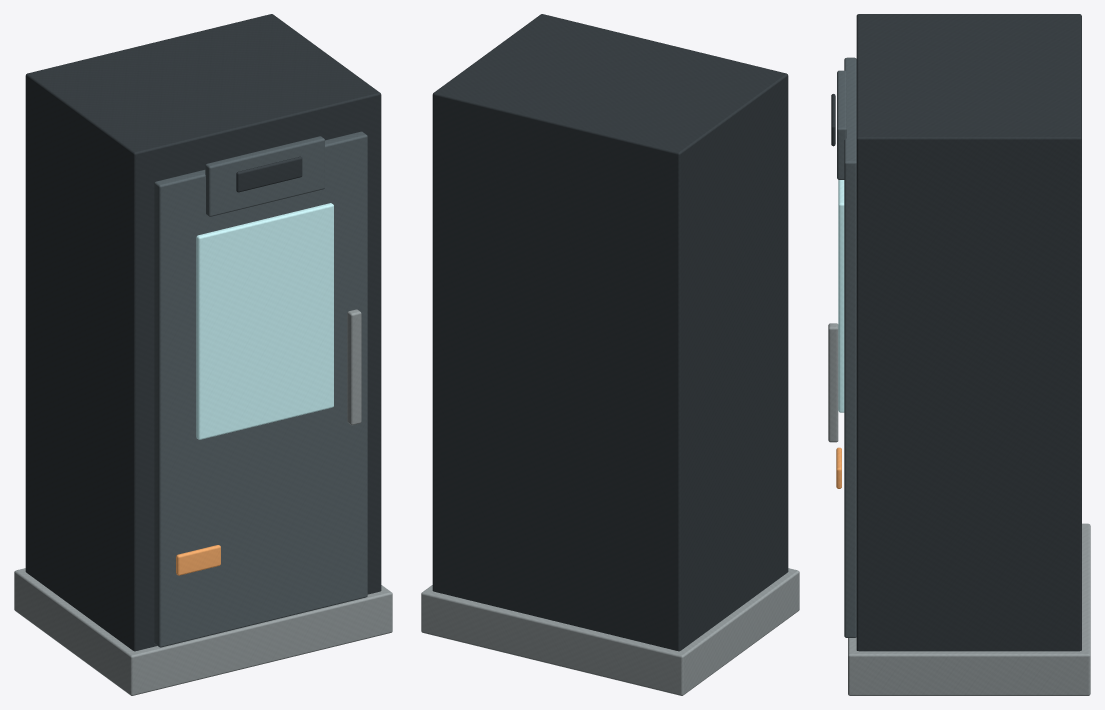
File: SpecimenRefrigerator.glb
The picture shows the model from 3 angles, left to right: view 1: azimuth 30°, elevation 25°; view 2: azimuth 150°, elevation 25°; view 3: azimuth 270°, elevation 25°; orthographic projection. The views are drawn at different scales.
Visible parts, largest first — view 1: SpecimenRefrigerator_Mesh; view 2: SpecimenRefrigerator_Mesh; view 3: SpecimenRefrigerator_Mesh.
Boxes of the visible parts, bbox=[...] form: SpecimenRefrigerator_Mesh: bbox=[14, 14, 392, 695]; SpecimenRefrigerator_Mesh: bbox=[421, 14, 799, 695]; SpecimenRefrigerator_Mesh: bbox=[828, 14, 1090, 695].
Size of the model in its own units: 1.08 by 2.12 by 0.9075.
Materials: 5 (5 with a texture image).
